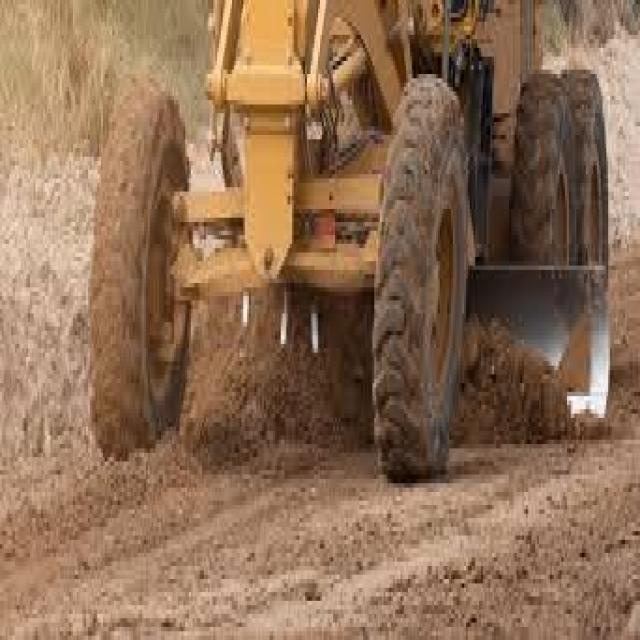buldozerpayloadergrader: (84, 0, 638, 549)
